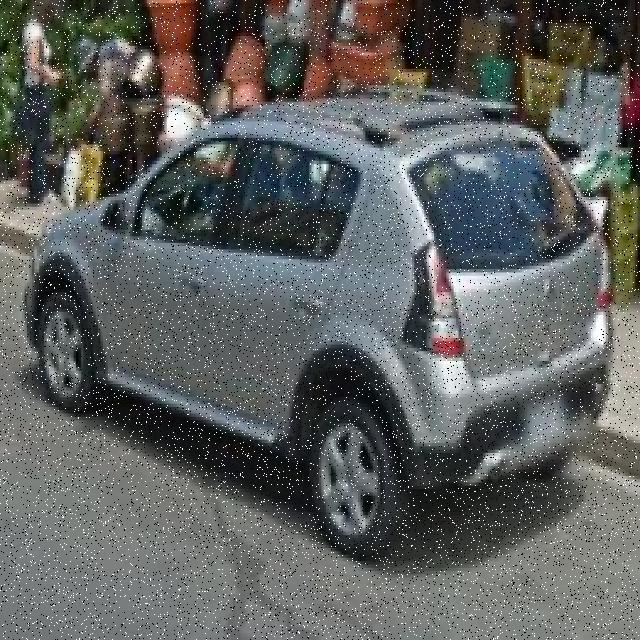cars: (25, 102, 613, 546)
